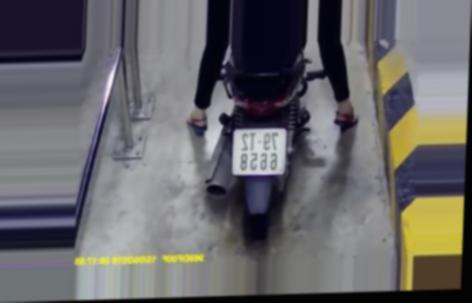License_Plate: (228, 123, 295, 179)
